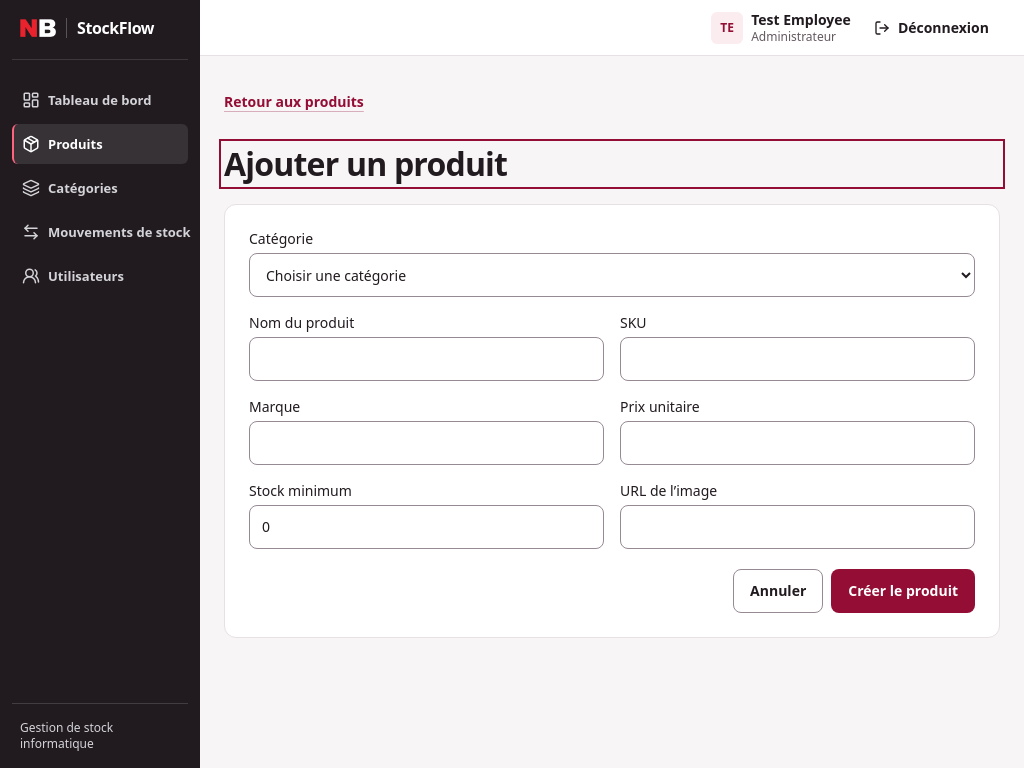
Scenario: validates required product fields and displays a duplicate SKU on the matching input
Step 1. Click the button "Créer le produit" → (903, 591), box [831, 569, 975, 613]
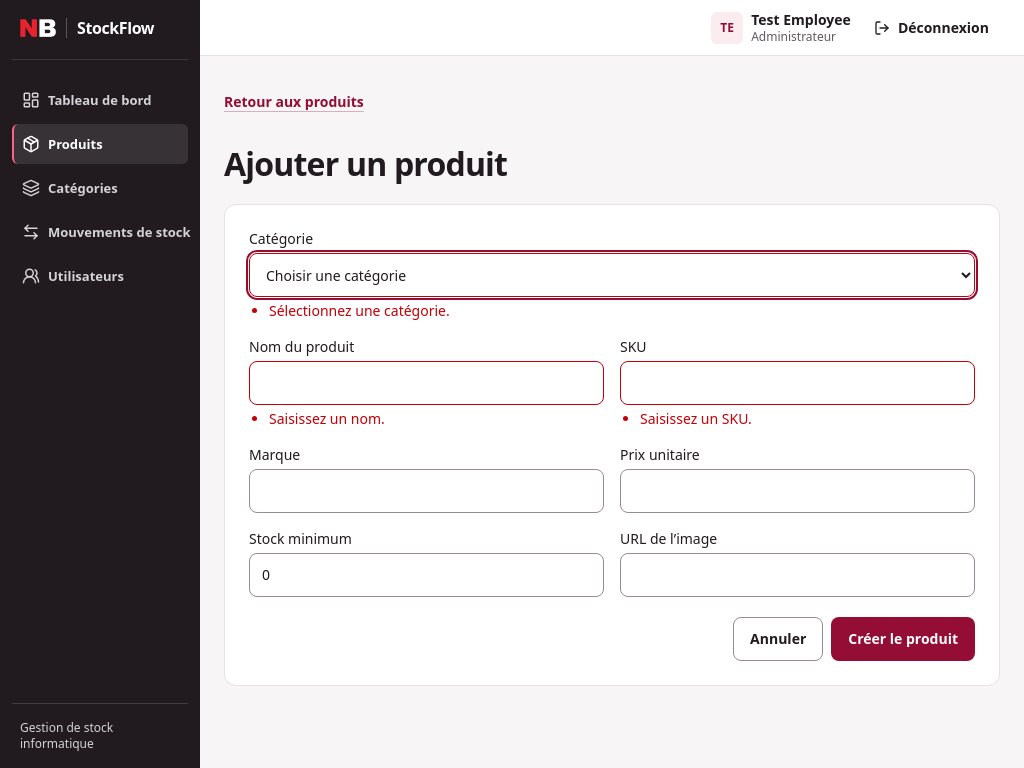
Now the list item "Saisissez un nom." is shown, box [269, 409, 385, 428]
Now the list item "Sélectionnez une catégorie." is shown, box [269, 301, 450, 320]
Step 2. Type "Câble de remplacement" into the field labelled "Nom du produit" → (426, 383), box [249, 361, 604, 405]
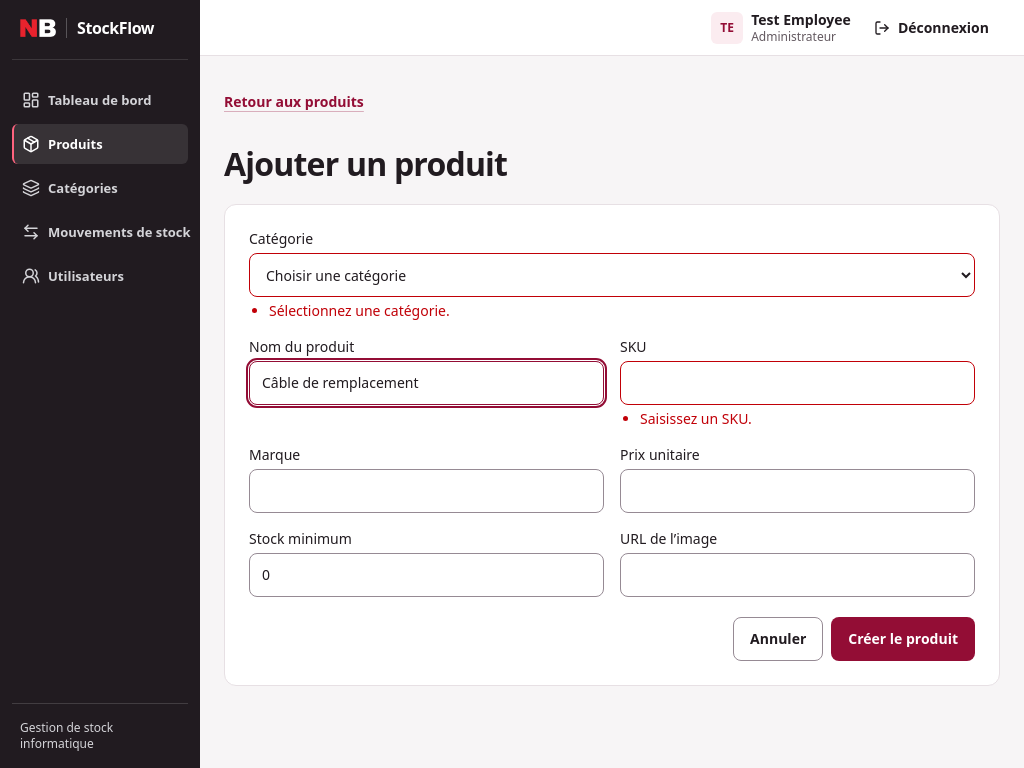
Step 3. Type "USB-C-12" into the field labelled "SKU" → (798, 383), box [620, 361, 975, 405]
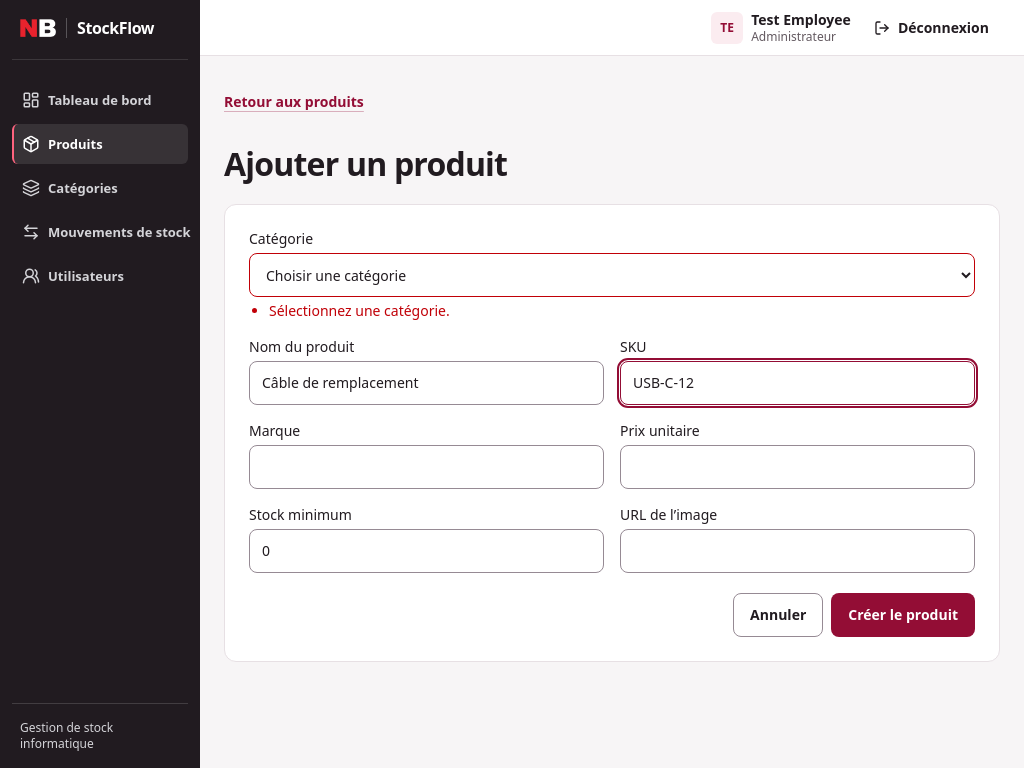
Step 4. Select "Câbles" in the dropdown labelled "Catégorie" → (612, 275), box [249, 253, 975, 297]
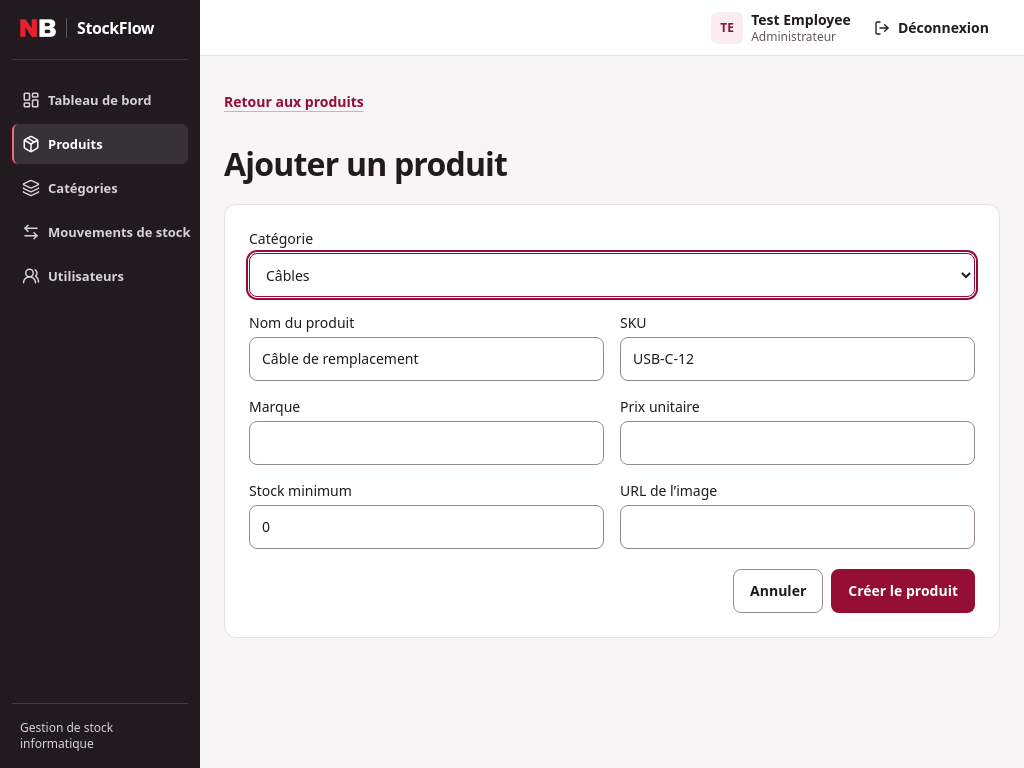
Step 5. Click the button "Créer le produit" → (903, 591), box [831, 569, 975, 613]
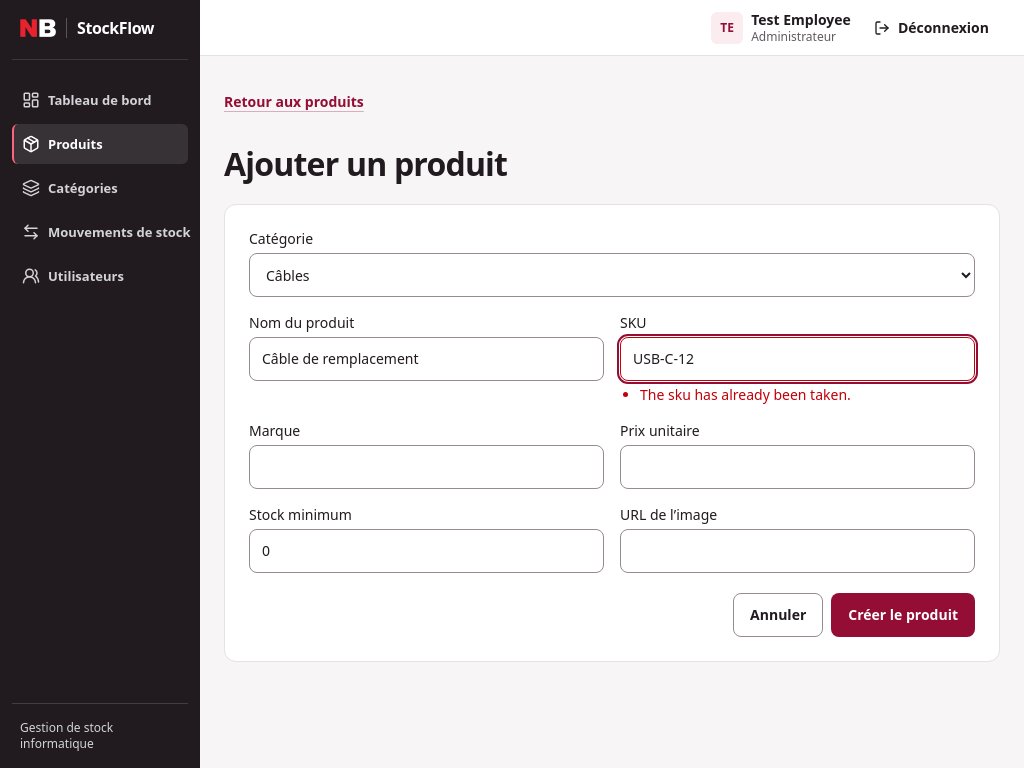
Now the list item "The sku has already been taken." is shown, box [640, 385, 851, 404]
